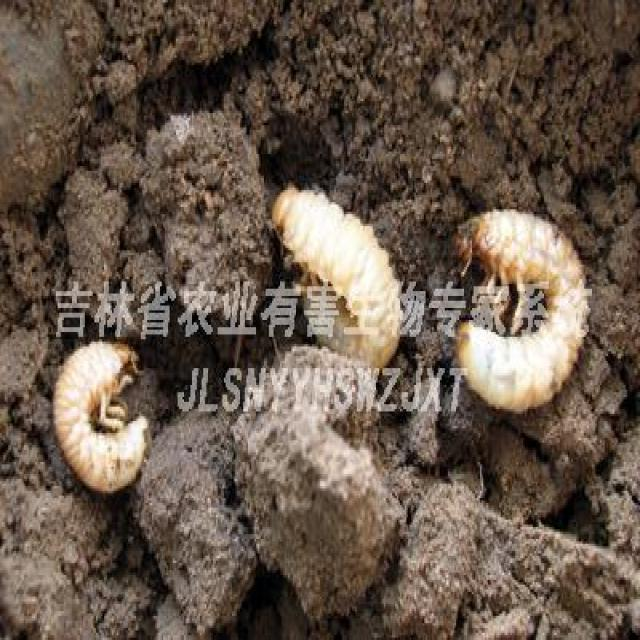Grub-Adult-: (454, 208, 632, 431), (232, 161, 410, 374), (48, 328, 162, 494)
